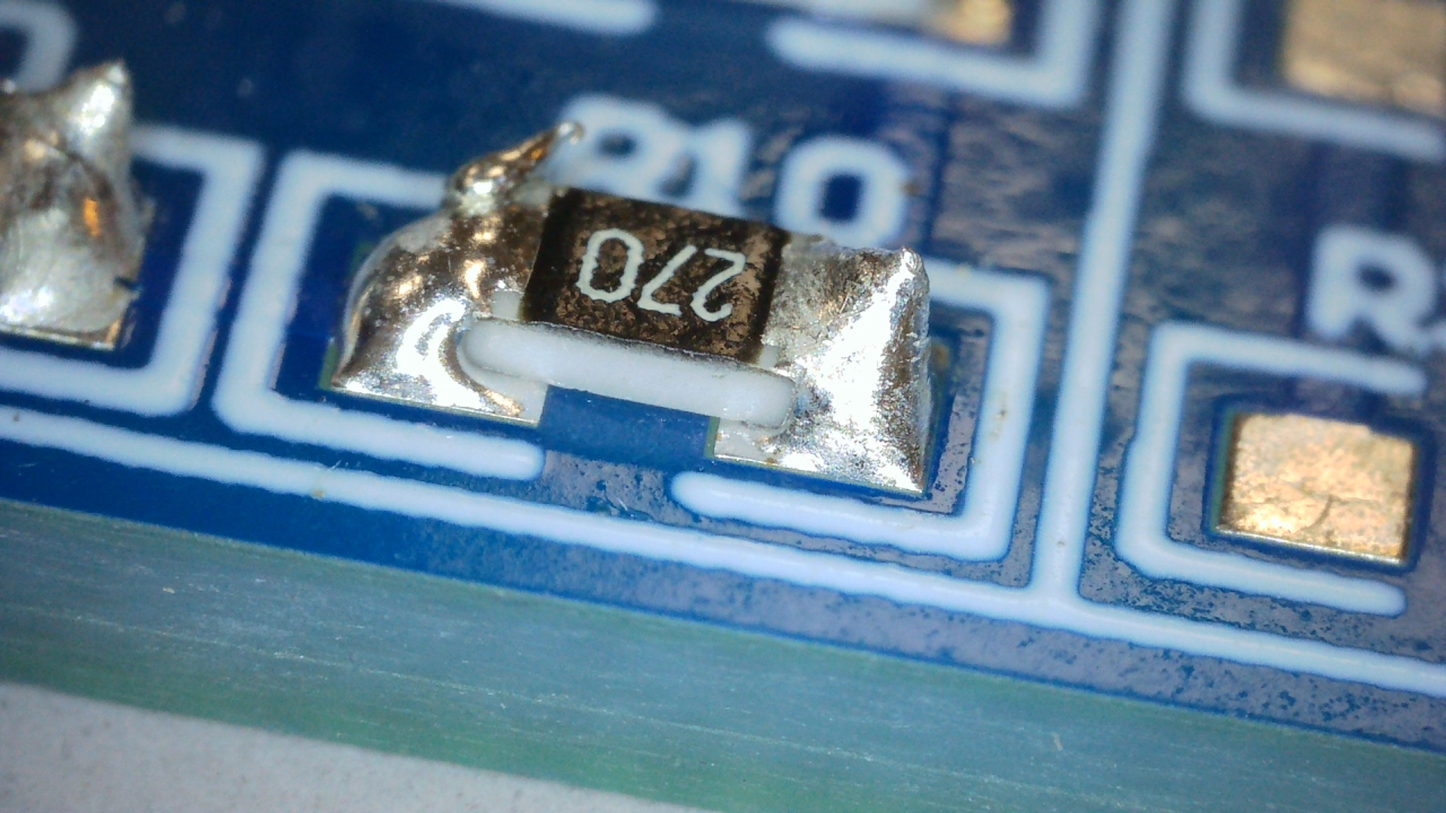NG: (334, 183, 553, 414), (754, 242, 934, 488), (445, 123, 584, 208)
